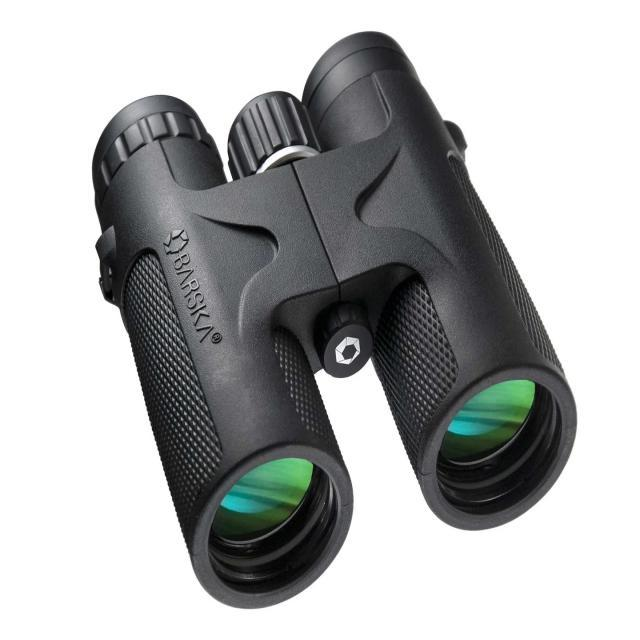Binocular: (83, 29, 581, 613)
